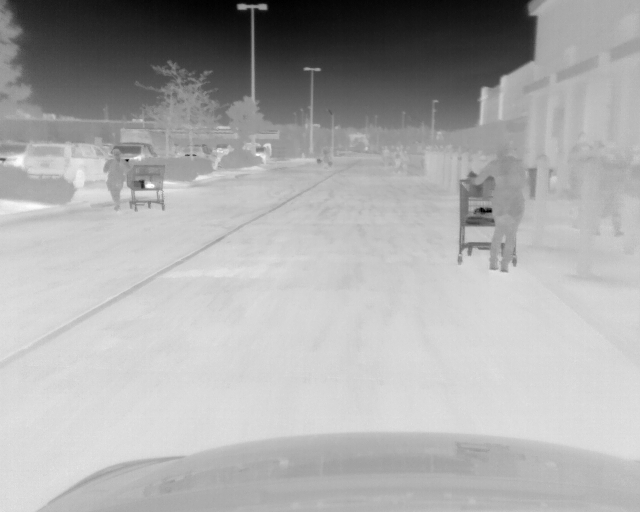car: (23, 139, 110, 188), (113, 141, 157, 169), (173, 144, 216, 167), (244, 141, 271, 165), (1, 144, 28, 168), (211, 141, 234, 156)
people: (468, 142, 528, 274), (592, 136, 627, 235), (570, 136, 597, 227), (622, 144, 640, 254), (104, 148, 128, 211)
